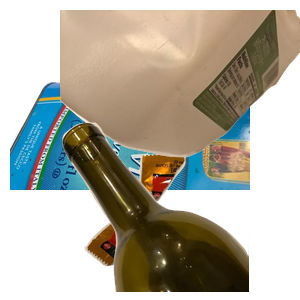glass: (60, 120, 300, 300)
metal: (10, 64, 250, 244)
plastic: (60, 10, 300, 160)
trash: (82, 151, 260, 300)
